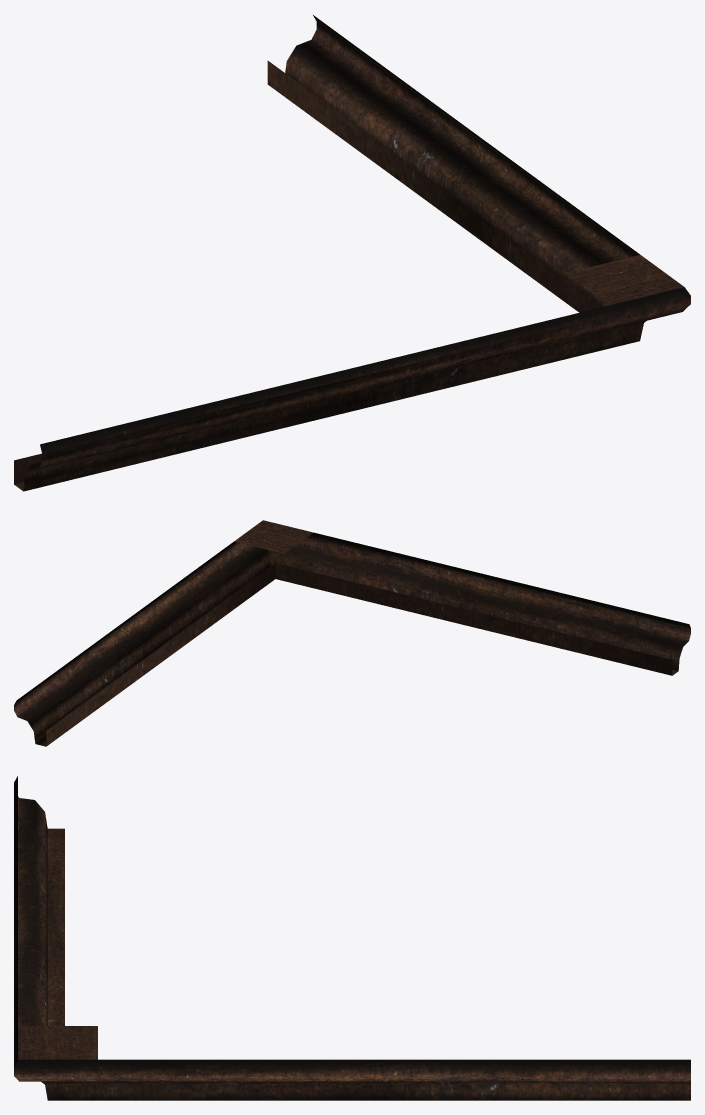
File: default02_floorcap_corner.DAE
The picture shows the model from 3 angles, top to bottom: view 1: azimuth 30°, elevation 25°; view 2: azimuth 150°, elevation 25°; view 3: azimuth 270°, elevation 25°; orthographic projection. The views are drawn at different scales.
Visible parts, largest first — view 1: default005; view 2: default005; view 3: default005.
Part boxes in pixels (bbox=[...]): default005: bbox=[14, 15, 690, 491]; default005: bbox=[14, 520, 690, 746]; default005: bbox=[14, 776, 690, 1100].
Size of the model in its own units: 4.23 by 0.3687 by 4.23.
